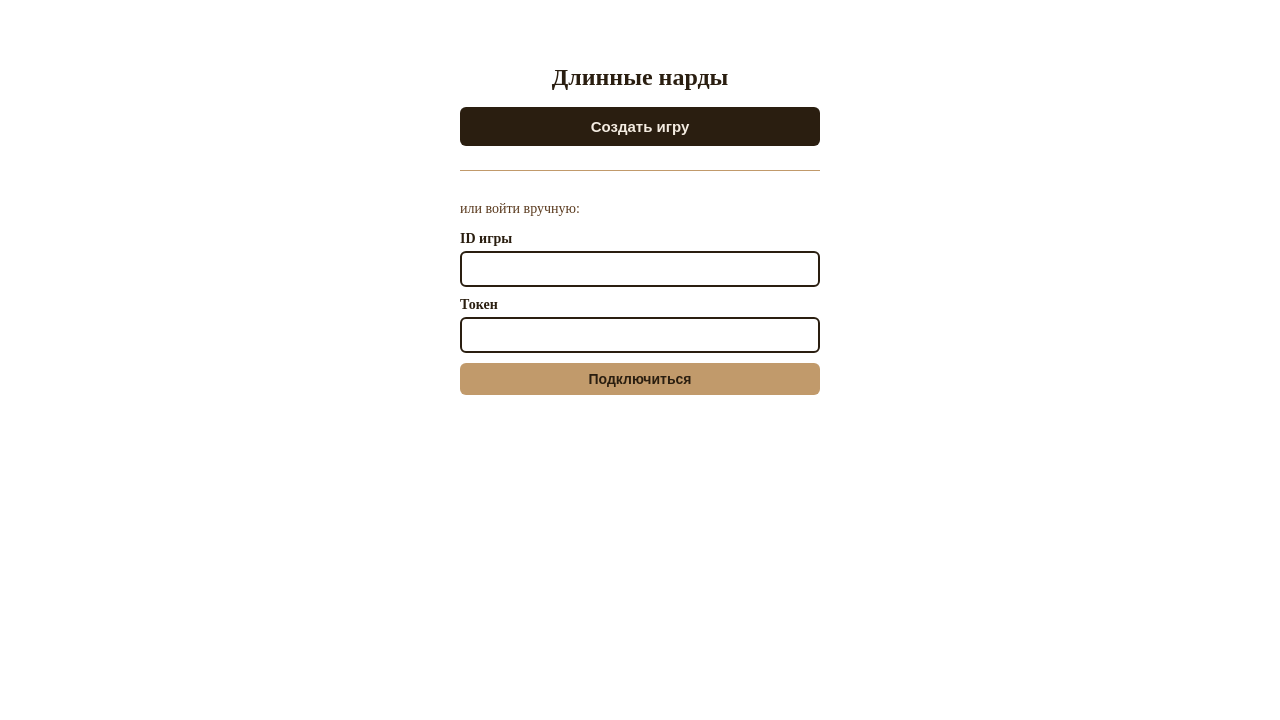
Test: App routing (#24b) › App_afterConnect_showsGameNotConnect
This screenshot has width=1280, height=720.
Type "g-1" into the field labelled "ID игры".
click(640, 270); type("g-1")  # box left=460, top=252, right=820, bottom=288
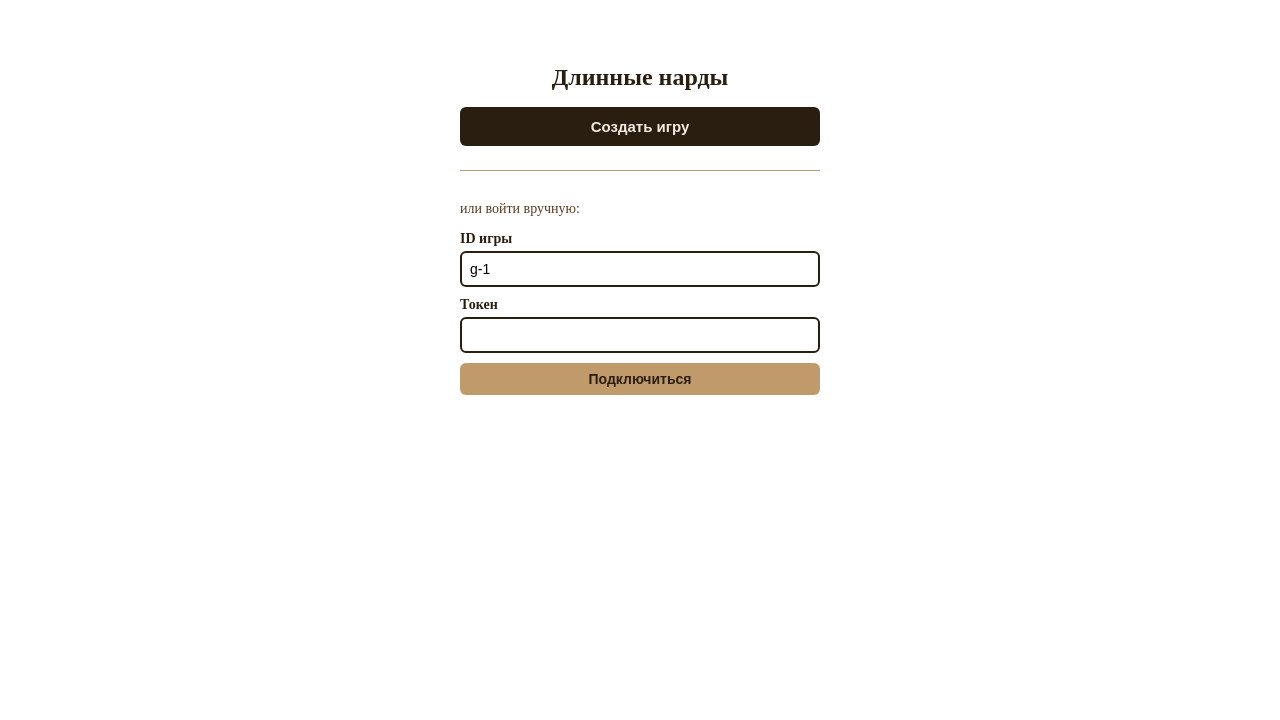
Type "tok" into the password field labelled "Токен".
click(640, 335); type("tok")  # box left=460, top=317, right=820, bottom=353
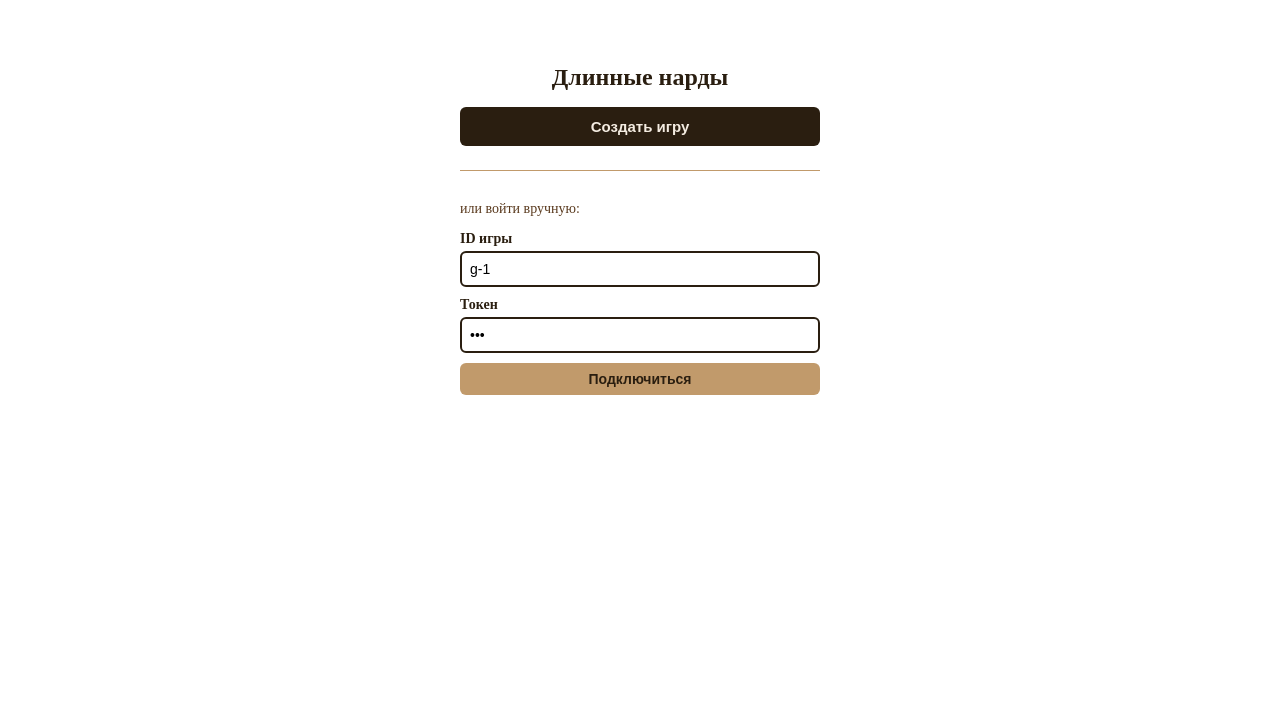
Click the button "Подключиться".
click(640, 379)  # box left=460, top=363, right=820, bottom=395
(page scrolled)
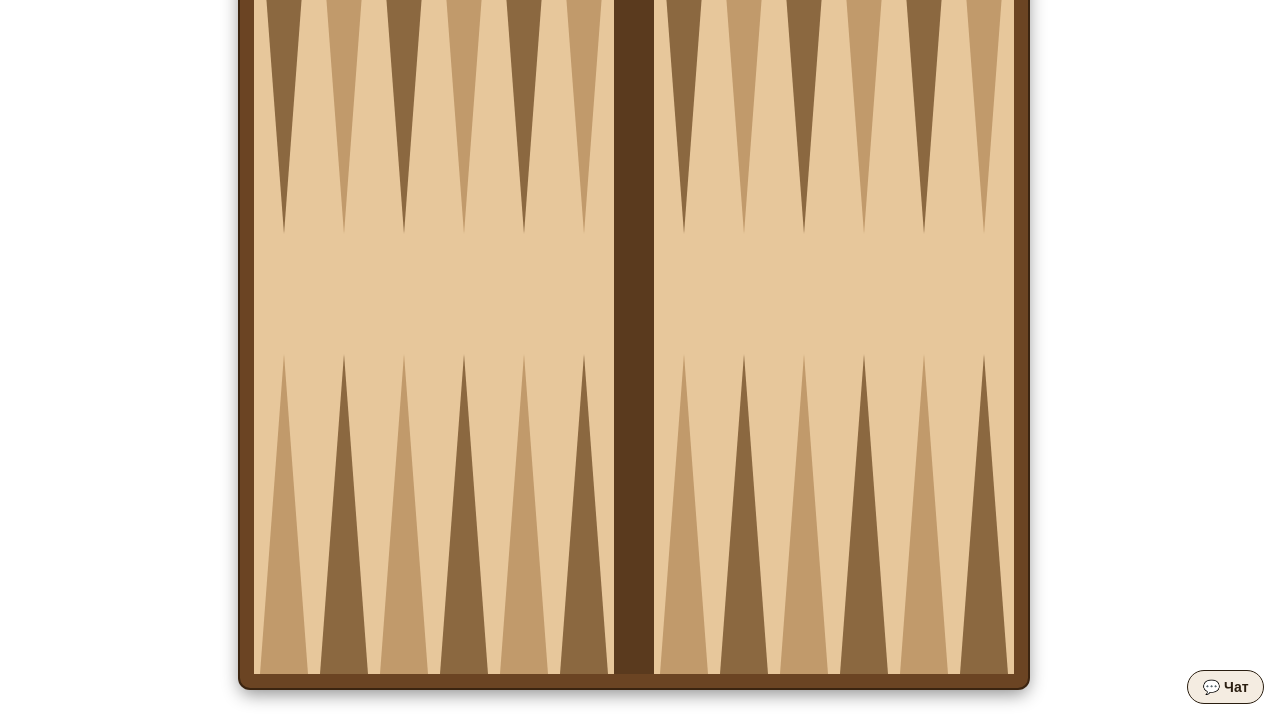
Expected: the element with test id "point-1" is shown, left=960, top=354, right=1008, bottom=674
Expected: the label labelled "ID игры" is gone
